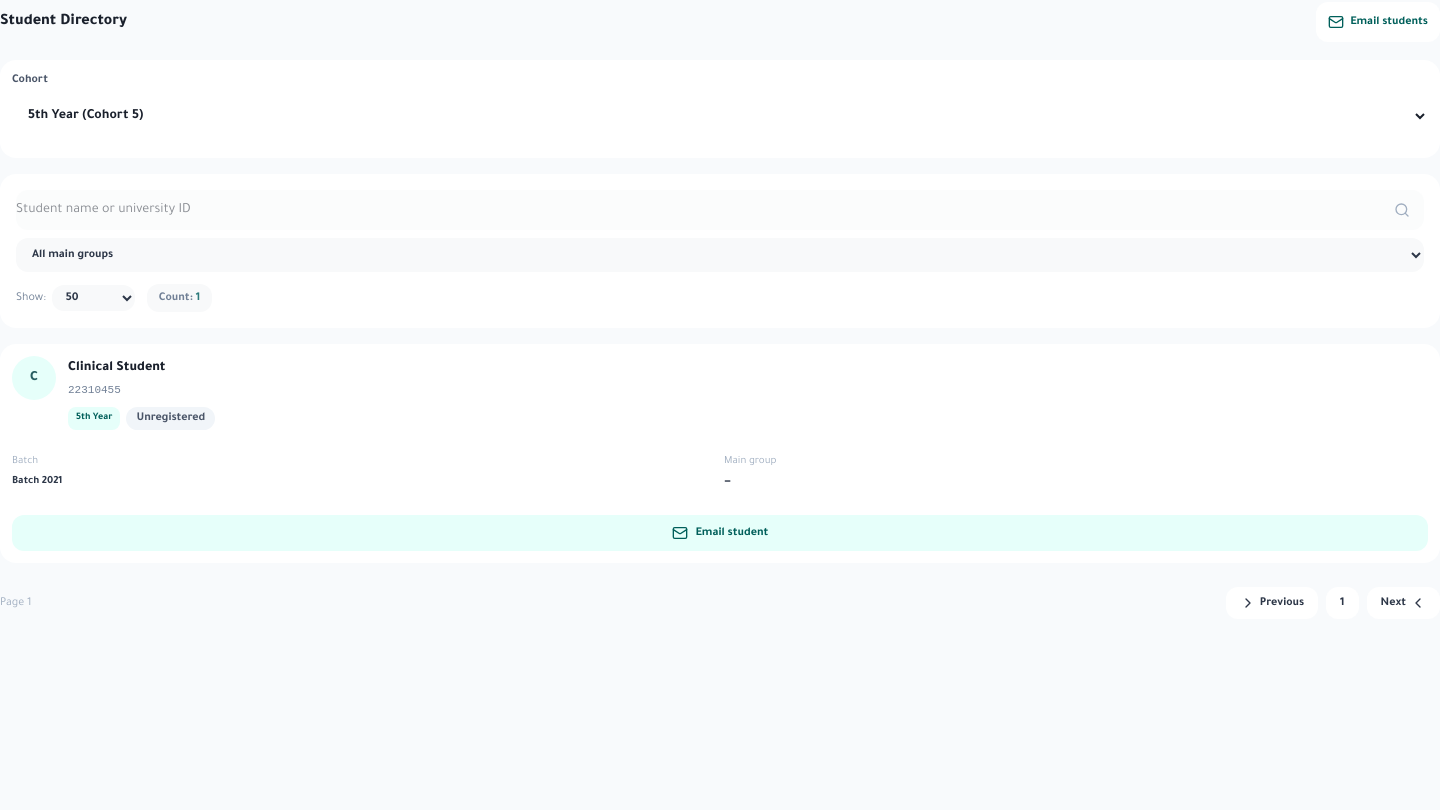
student directory email action › prepares a whole cohort or selected main group in Gmail Bcc
The width and height of the screenshot is (1440, 810).
Click the button "Email students" at (1378, 22), box x1=1316 y1=2 x2=1439 y2=42
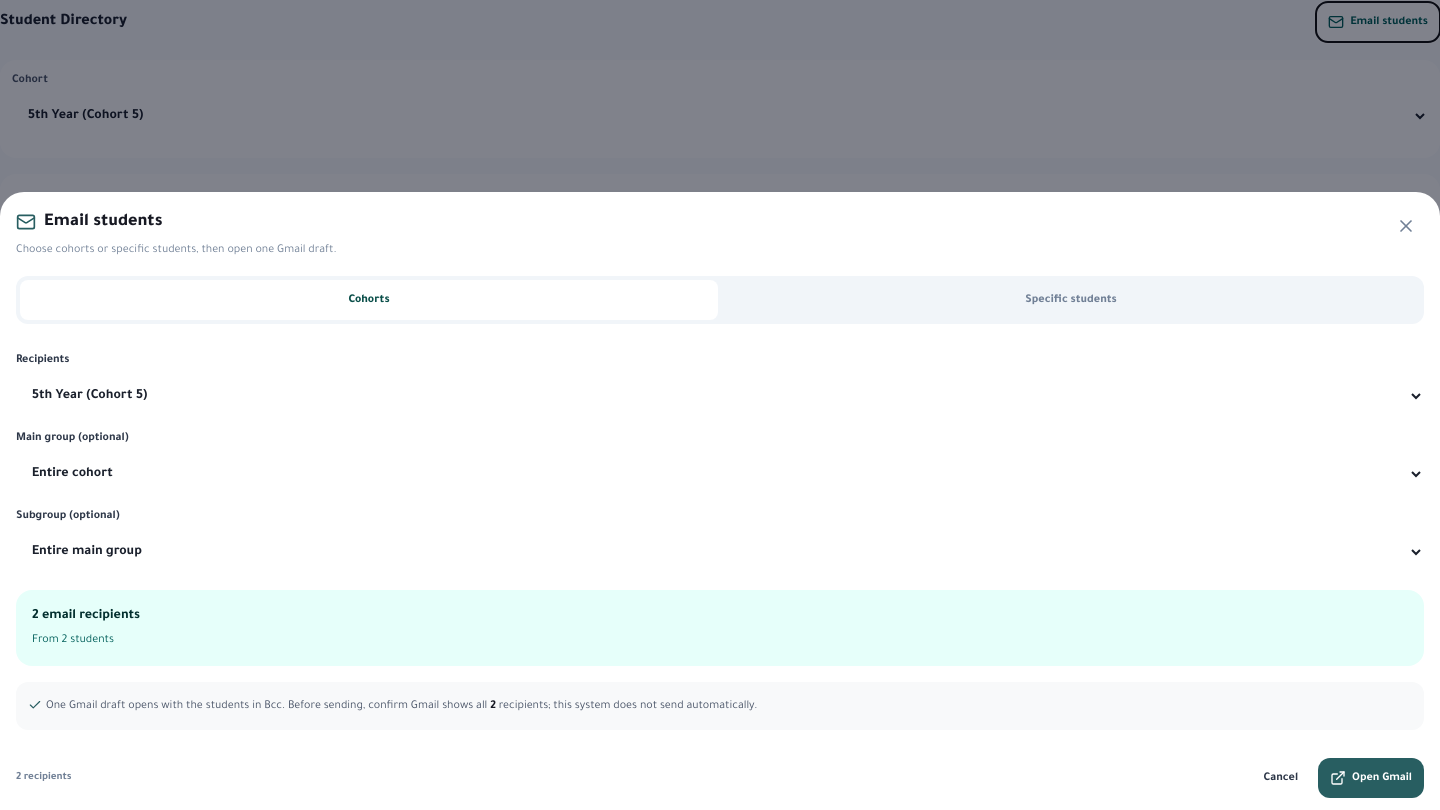
Expected: the text "2 email recipients" is shown, x1=32 y1=609 x2=140 y2=623
Select "L" in the dropdown named "Recipient group" at (720, 474), box x1=16 y1=452 x2=1424 y2=496
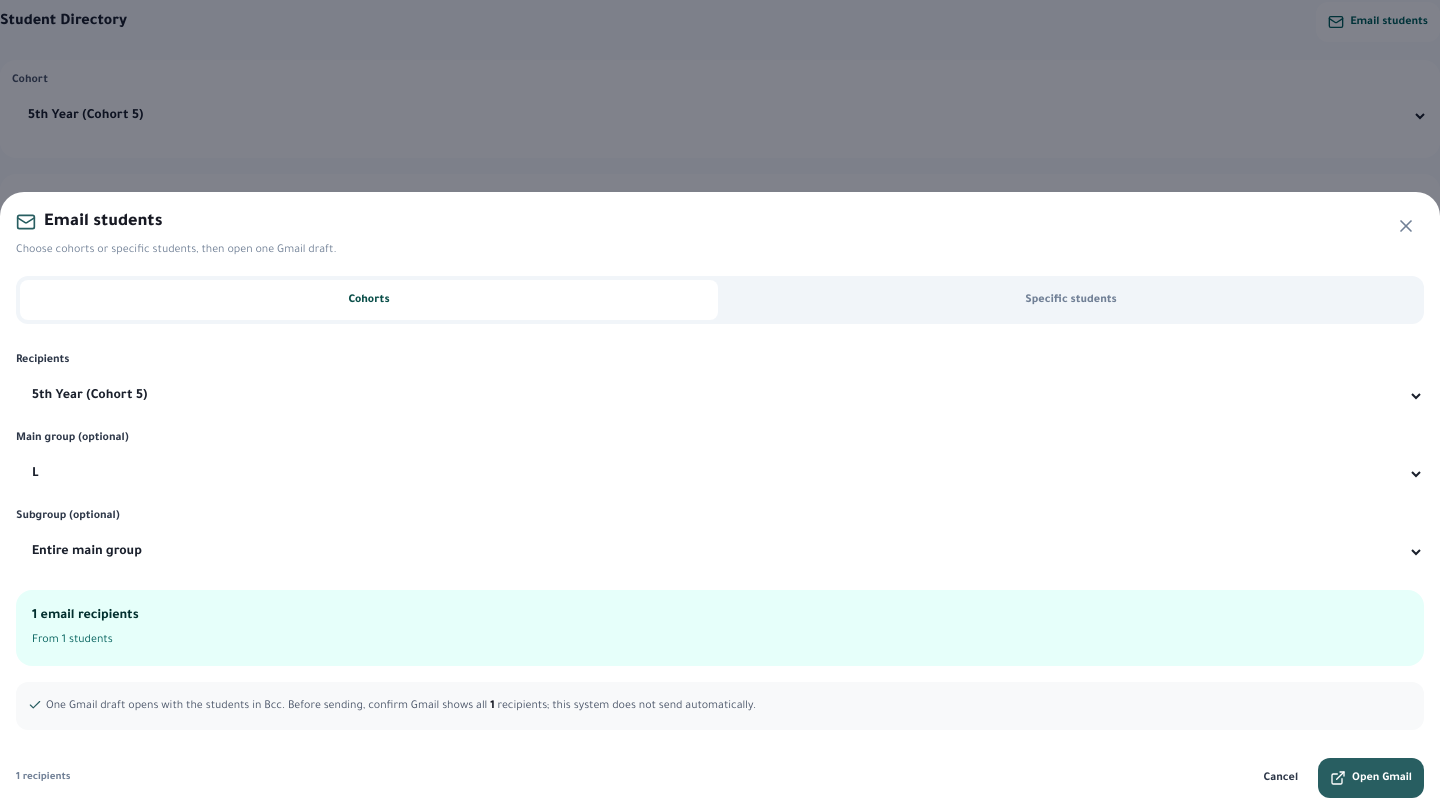
Expected: the text "1 email recipients" is shown, x1=32 y1=609 x2=139 y2=623
